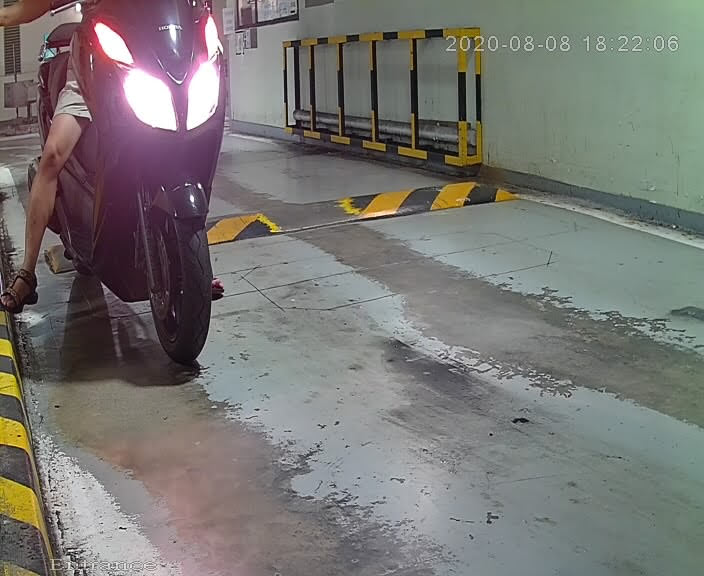motorcycle: (5, 1, 240, 374)
